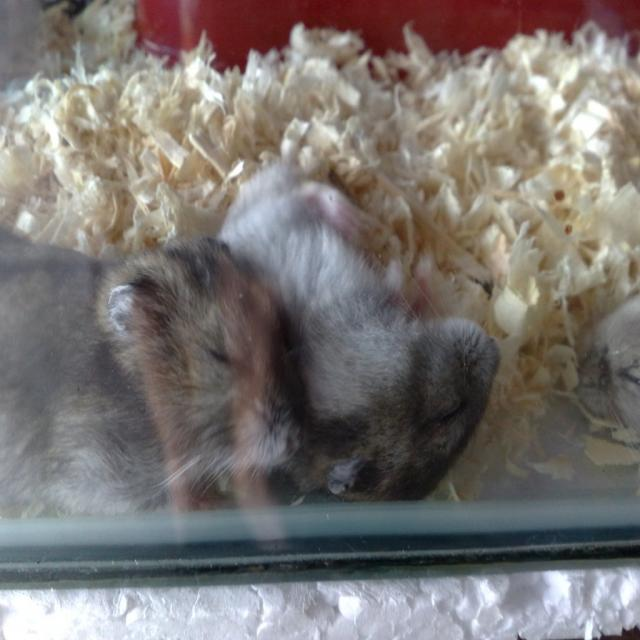rat: (213, 156, 498, 503), (0, 226, 305, 519)
